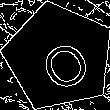O_NW: (27, 24, 91, 90)
